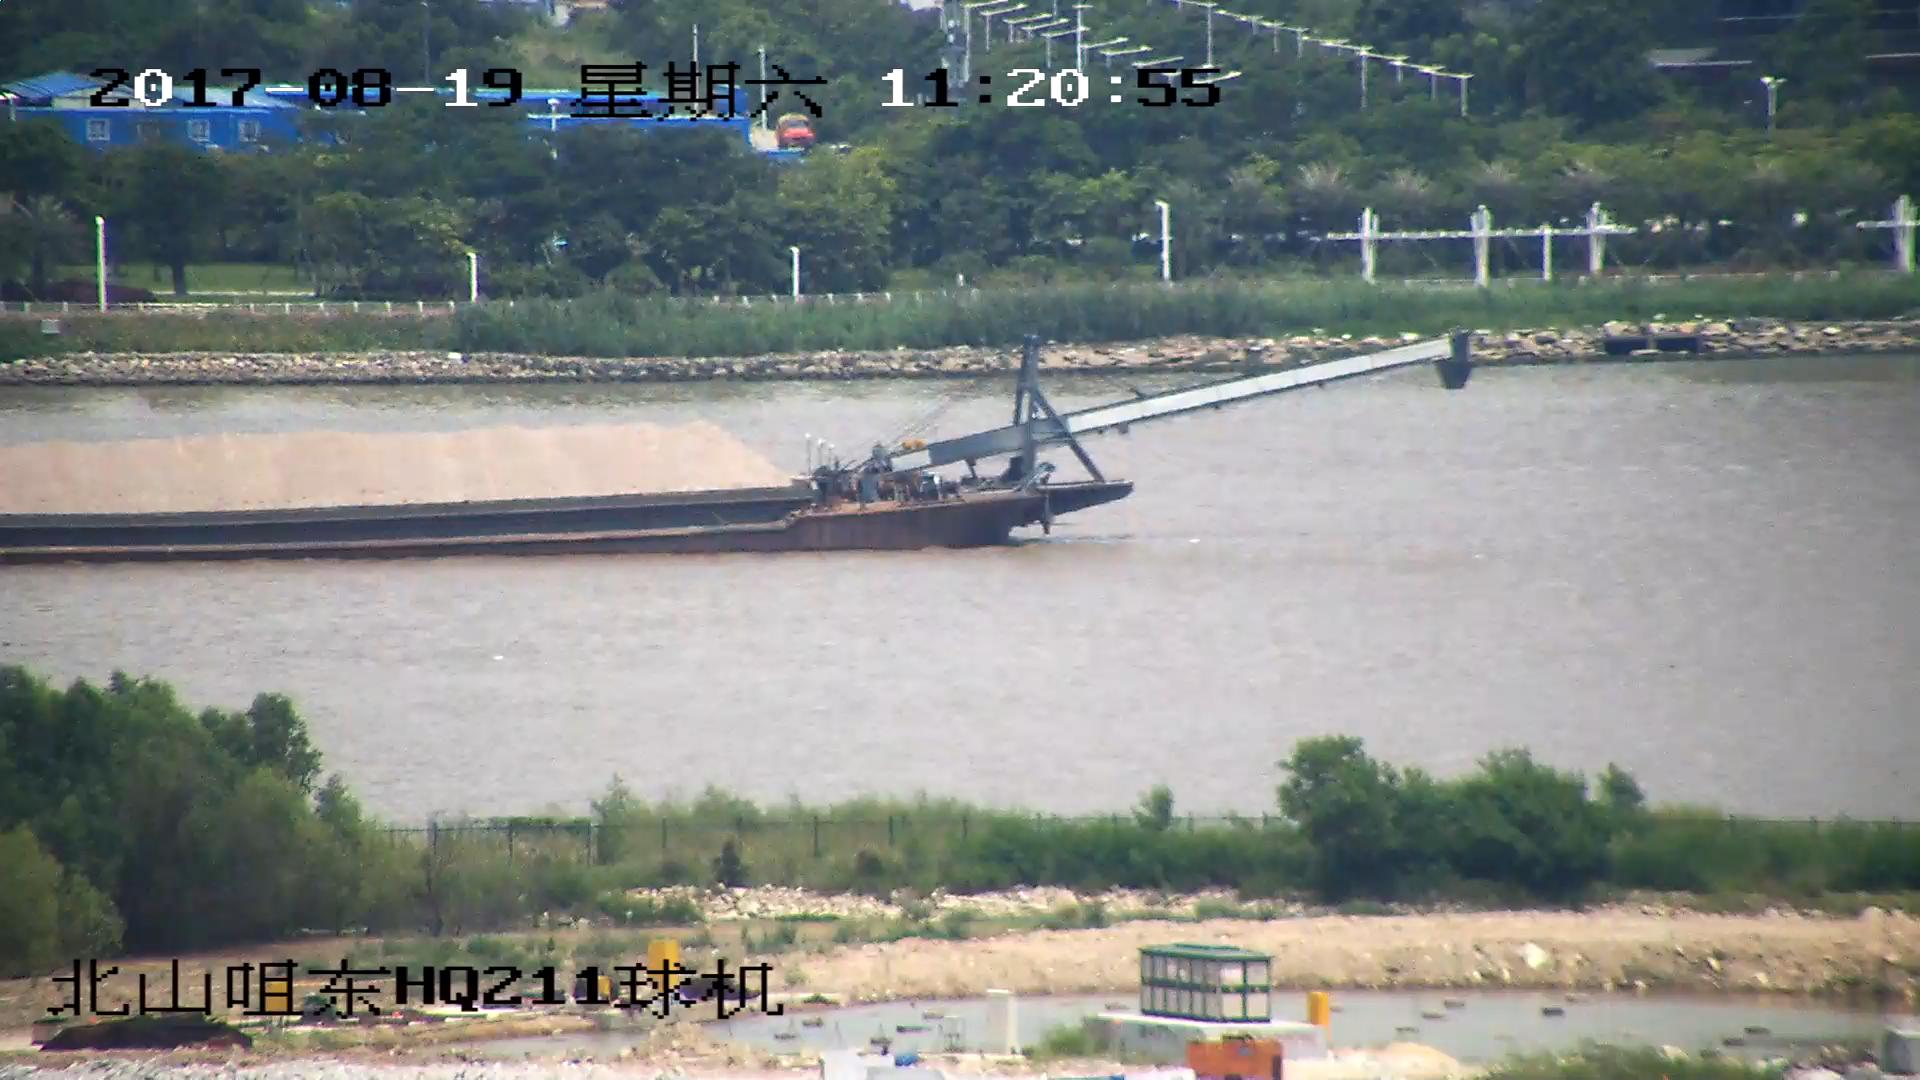ore carrier: (1, 332, 1466, 563)
